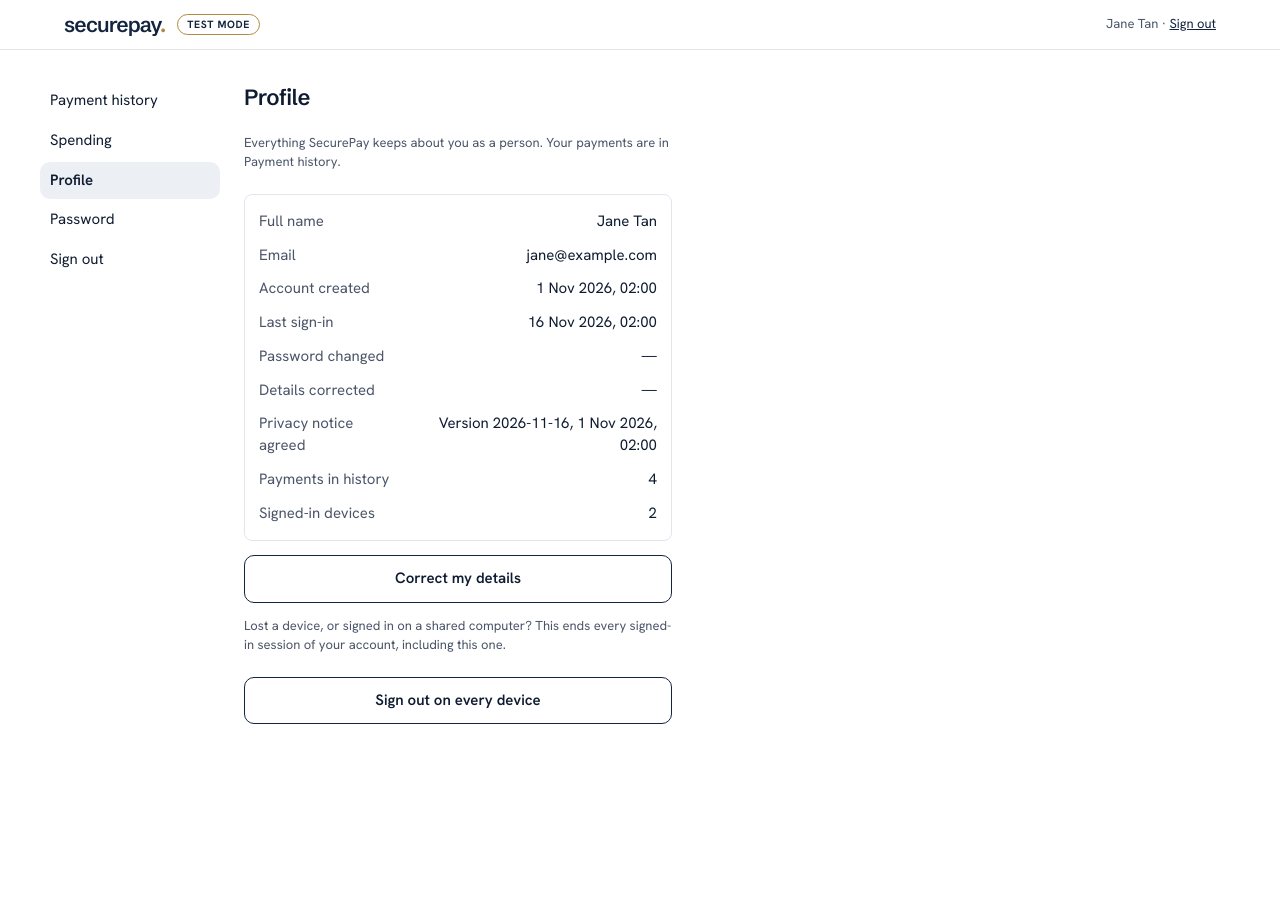
Test: idle warning and personal data (FR-ACC-10, FR-ACC-13) › shows the personal data kept and corrects it with the current password
The width and height of the screenshot is (1280, 900).
Expected: the text "Version 2026-11-16, 1 Nov 2026, 02:00" is shown, [412, 413, 657, 457]
Expected: the text "4" is shown, [649, 469, 657, 491]
Click the button "Correct my details".
click(458, 579)  # box [244, 555, 672, 603]
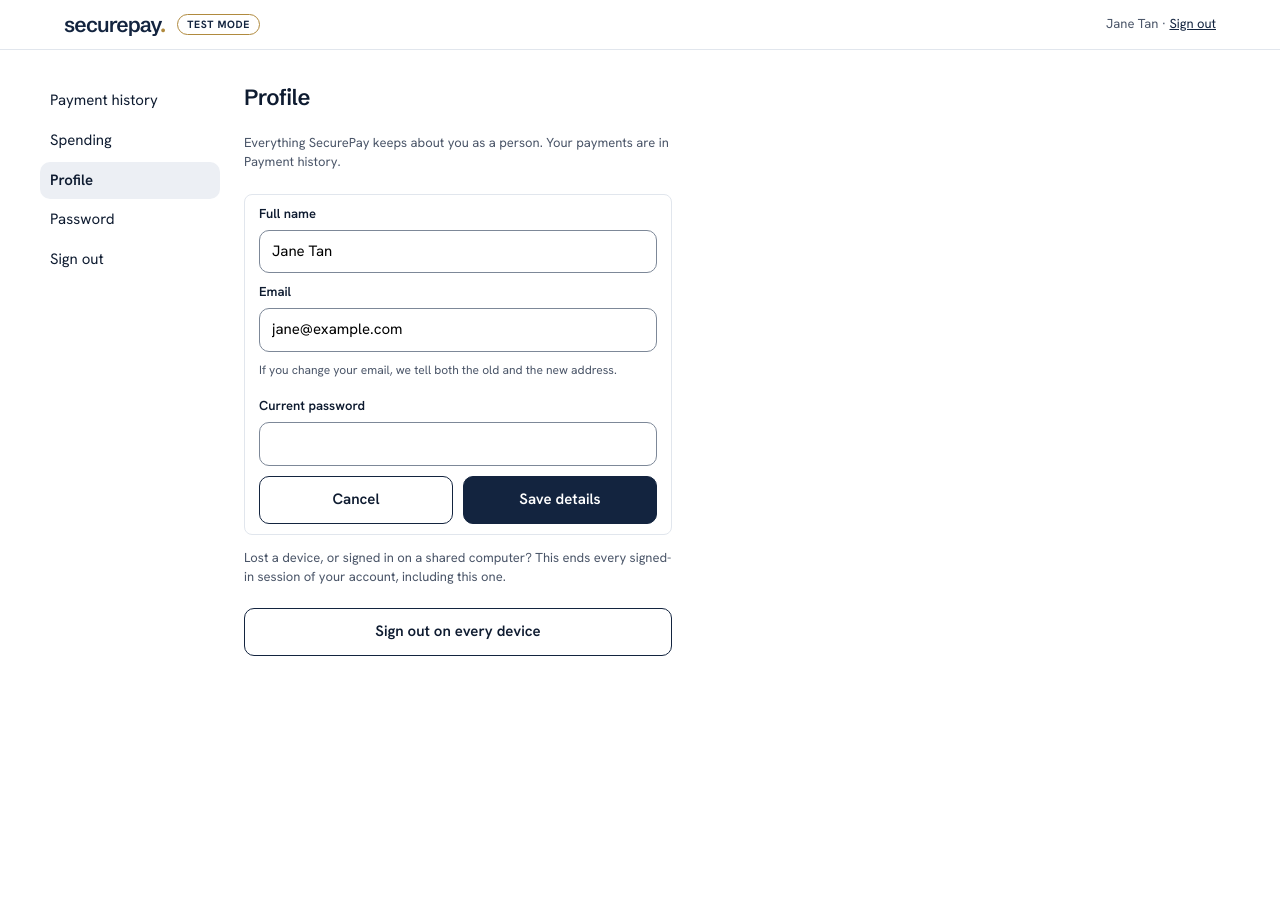
Replace the text in the field labelled "Full name" with "Jane Lim" at (458, 252), box [259, 230, 657, 273]
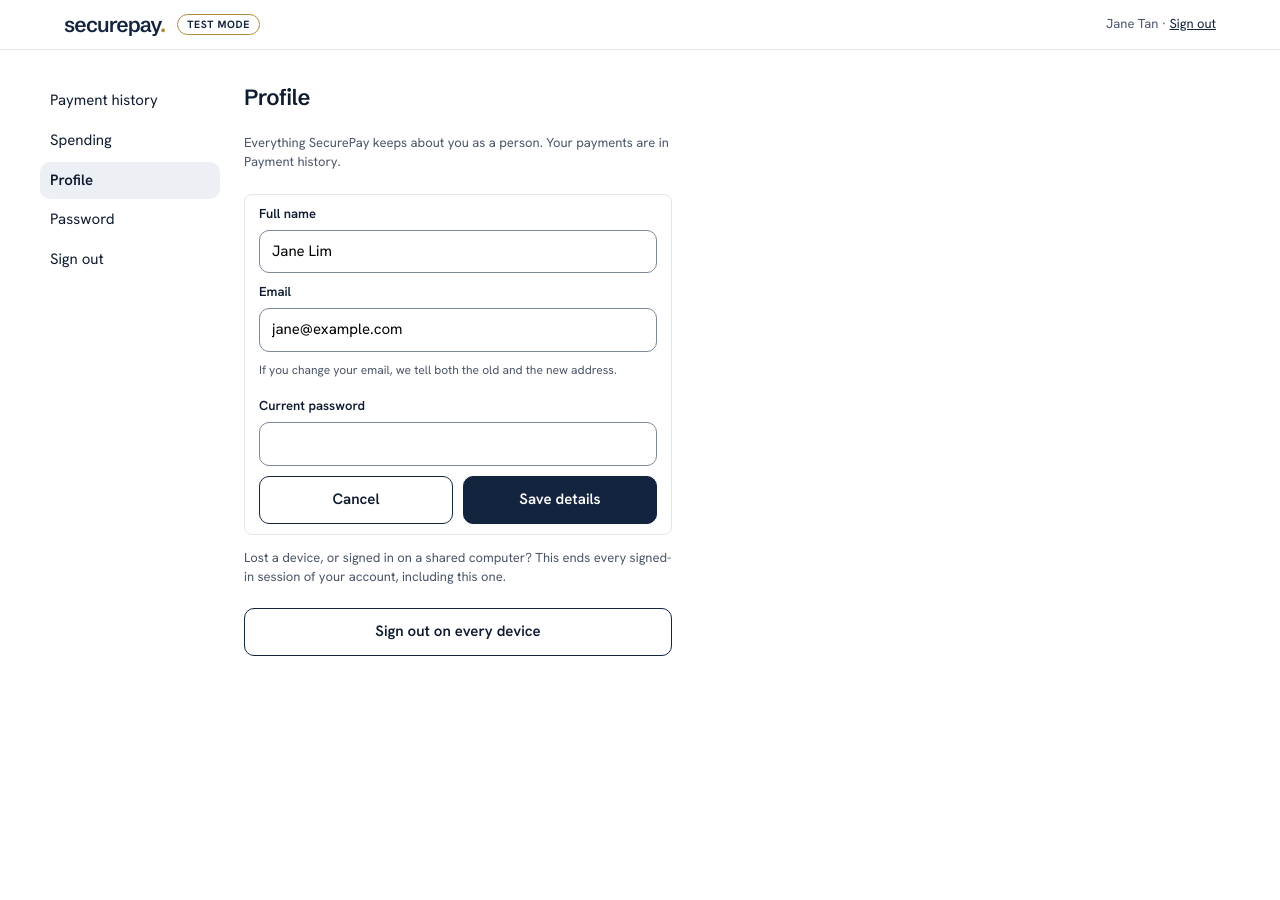
Click the button "Save details".
click(560, 500)  # box [463, 476, 657, 524]
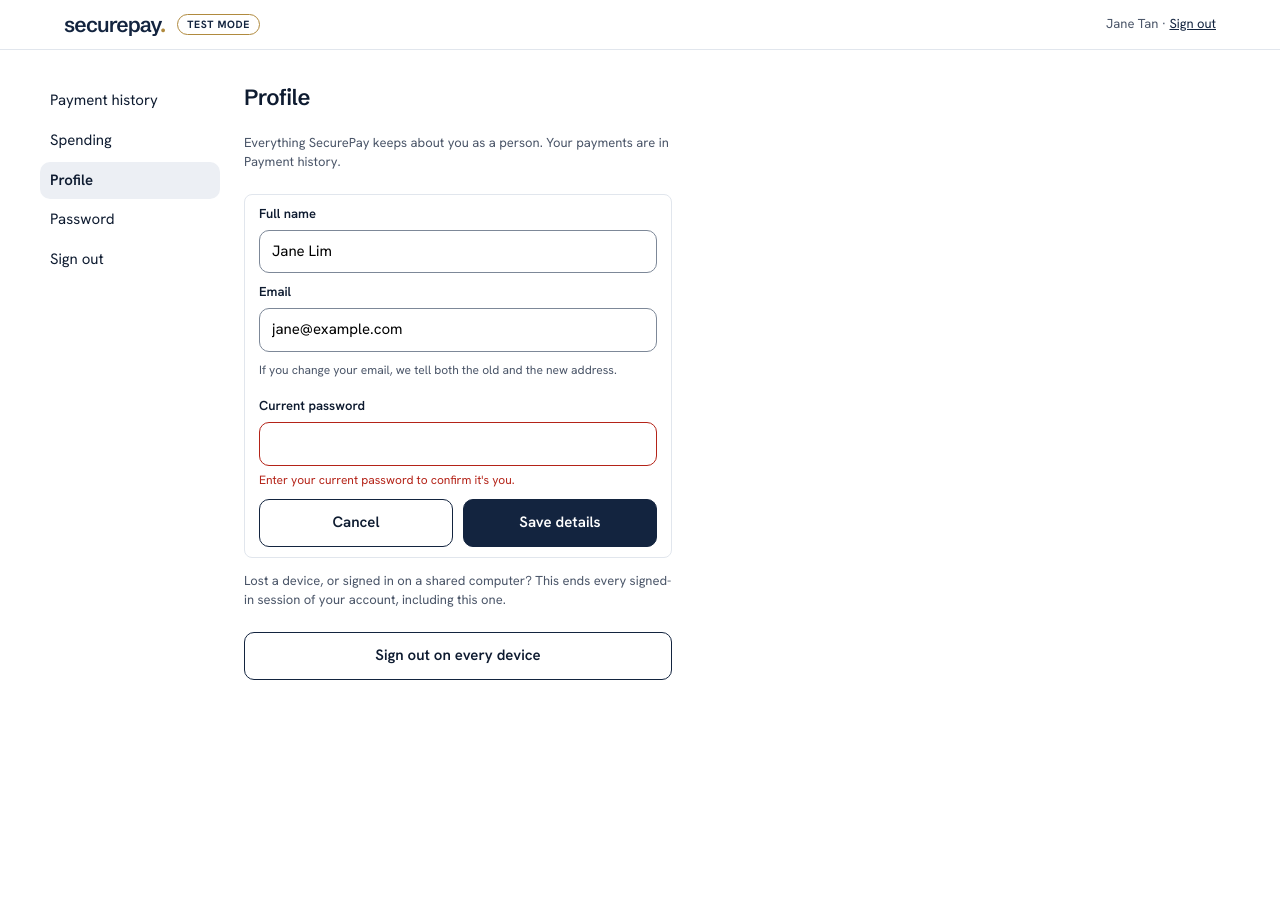
Expected: the text "Enter your current password to confirm it's you." is shown, [259, 472, 515, 488]
Type "correct horse battery 7" into the password field labelled "Current password".
click(458, 444); type("correct horse battery 7")  # box [259, 422, 657, 466]
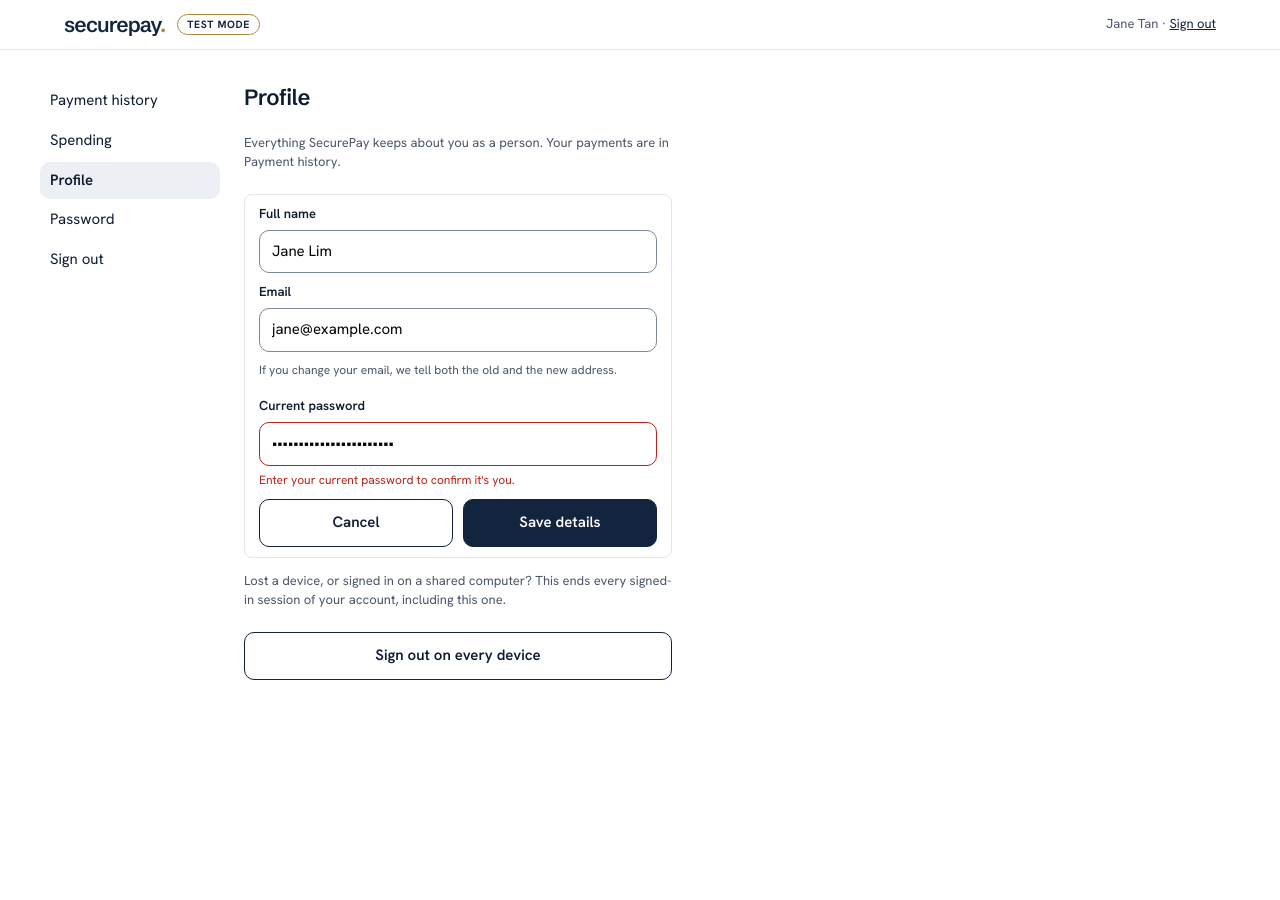
Click the button "Save details".
click(560, 523)  # box [463, 499, 657, 547]
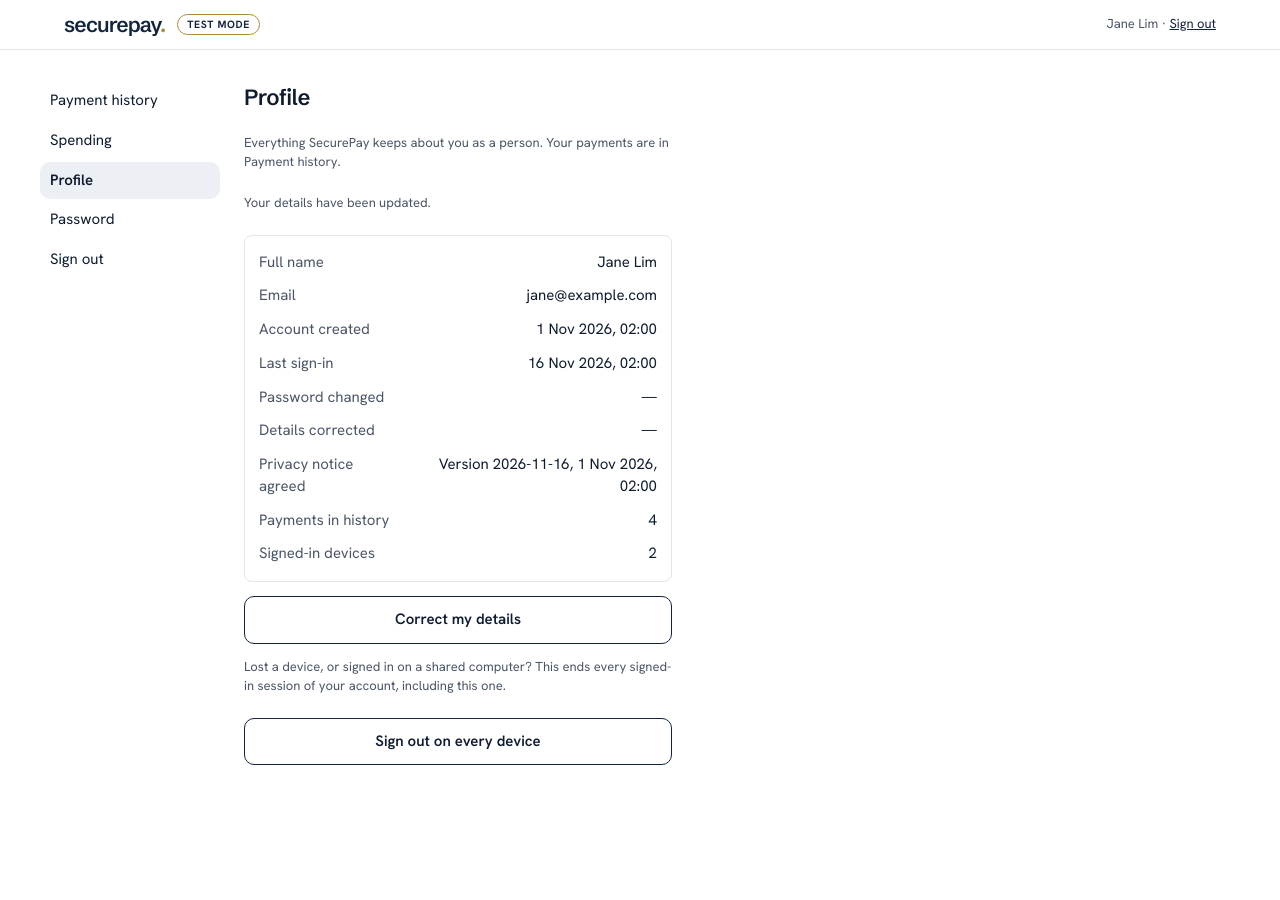
Expected: the text "Your details have been updated." is shown, [244, 194, 431, 211]
Expected: the text "Jane Lim · Sign out" is shown, [1106, 15, 1216, 34]
